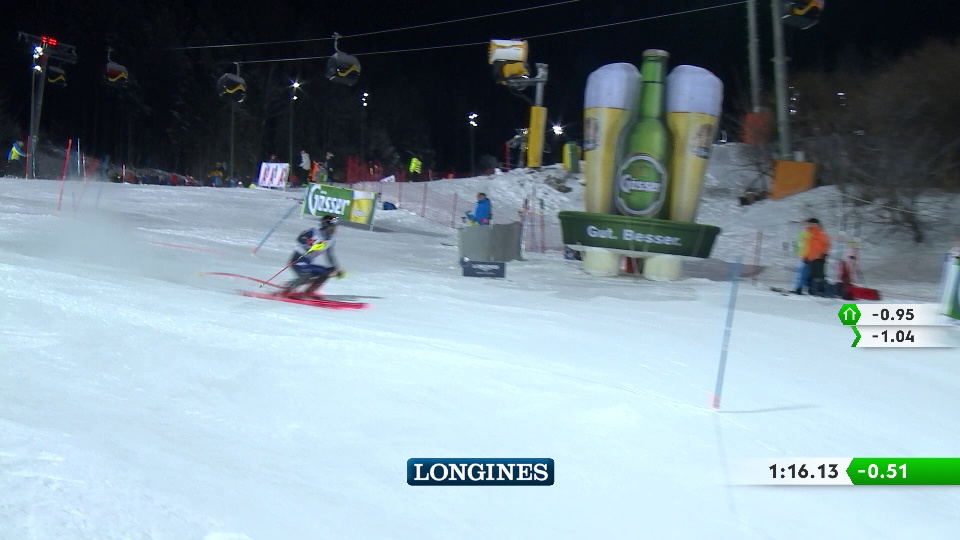goesser: (582, 61, 710, 217), (307, 187, 363, 222)
longines: (411, 460, 557, 486), (469, 264, 506, 276)
